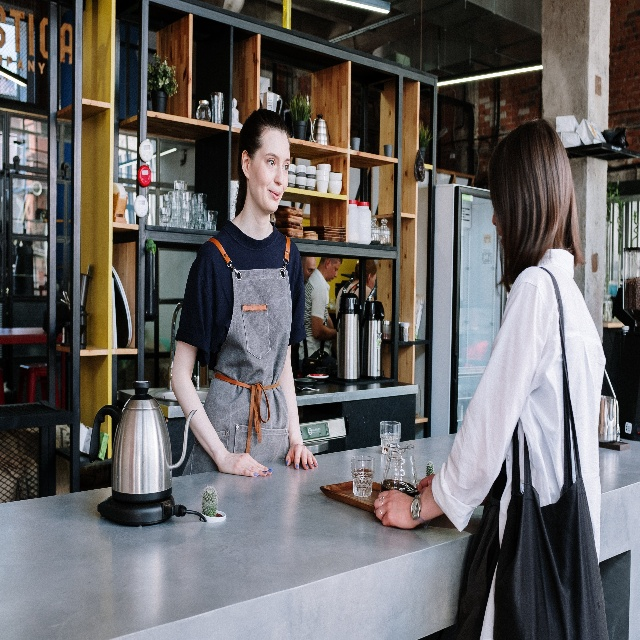Sin_guantes: (373, 488, 421, 530), (218, 450, 274, 477), (284, 442, 319, 471)
